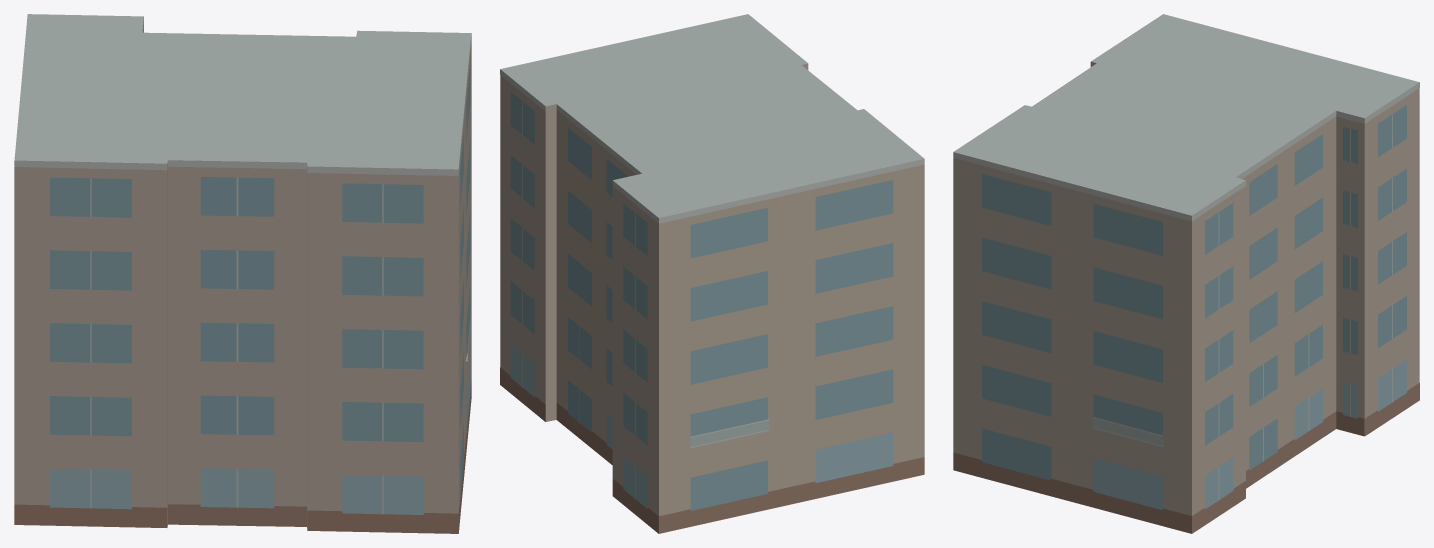
Rendered from survey-upis-32960656.glb.
The picture shows the model from 3 angles, left to right: view 1: azimuth 30°, elevation 25°; view 2: azimuth 150°, elevation 25°; view 3: azimuth 270°, elevation 25°; orthographic projection. The views are drawn at different scales.
Visible parts, largest first — view 1: survey-upis-32960656.tmp; view 2: survey-upis-32960656.tmp; view 3: survey-upis-32960656.tmp.
Boxes of the visible parts, bbox=[...] form: survey-upis-32960656.tmp: bbox=[14, 14, 471, 533]; survey-upis-32960656.tmp: bbox=[500, 14, 924, 533]; survey-upis-32960656.tmp: bbox=[953, 14, 1419, 533].
Bounding box in the file's own units: 18.64 × 13.7 × 18.22.
